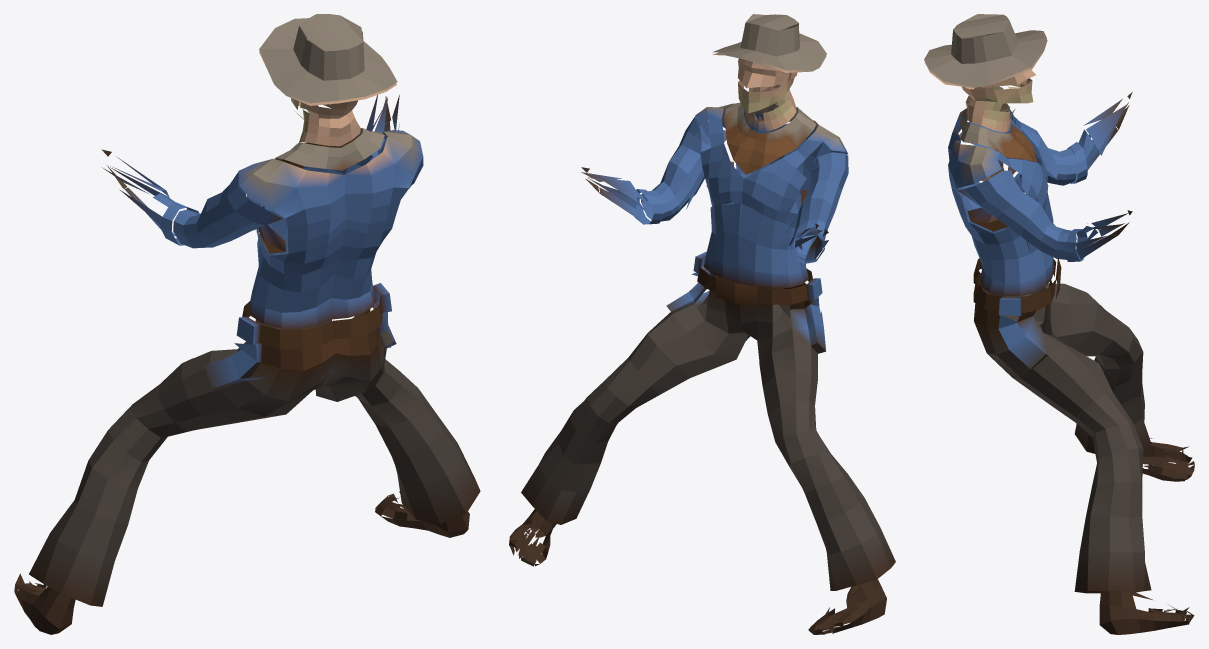
File: man_2_ride.fbx
The picture shows the model from 3 angles, left to right: view 1: azimuth 30°, elevation 25°; view 2: azimuth 150°, elevation 25°; view 3: azimuth 270°, elevation 25°; orthographic projection. The views are drawn at different scales.
Parts seen in each view (by area): view 1: cowboy; view 2: cowboy; view 3: cowboy.
Boxes of the visible parts, x1,y1,x2,y2 form: cowboy: (14, 14, 480, 634); cowboy: (509, 14, 895, 634); cowboy: (924, 14, 1194, 634).
Size of the model in its own units: 0.6436 by 0.882 by 0.4066.
